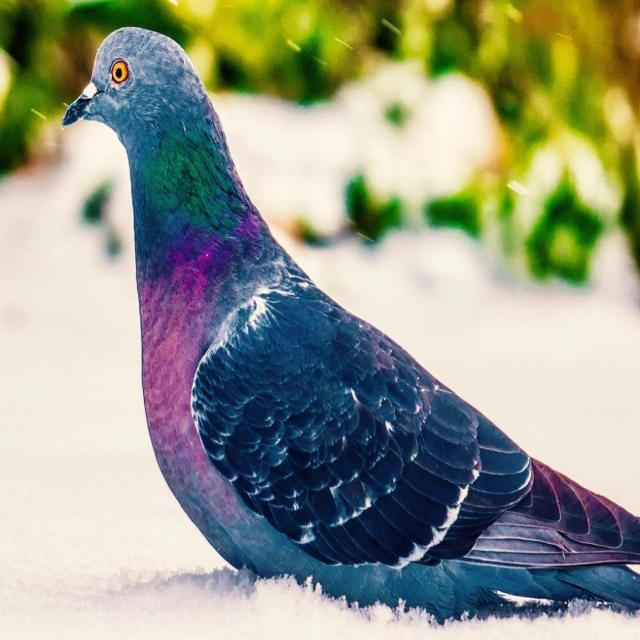pigeon: (63, 27, 640, 617)
